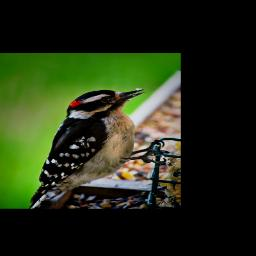Woodpecker: (29, 88, 170, 208)
